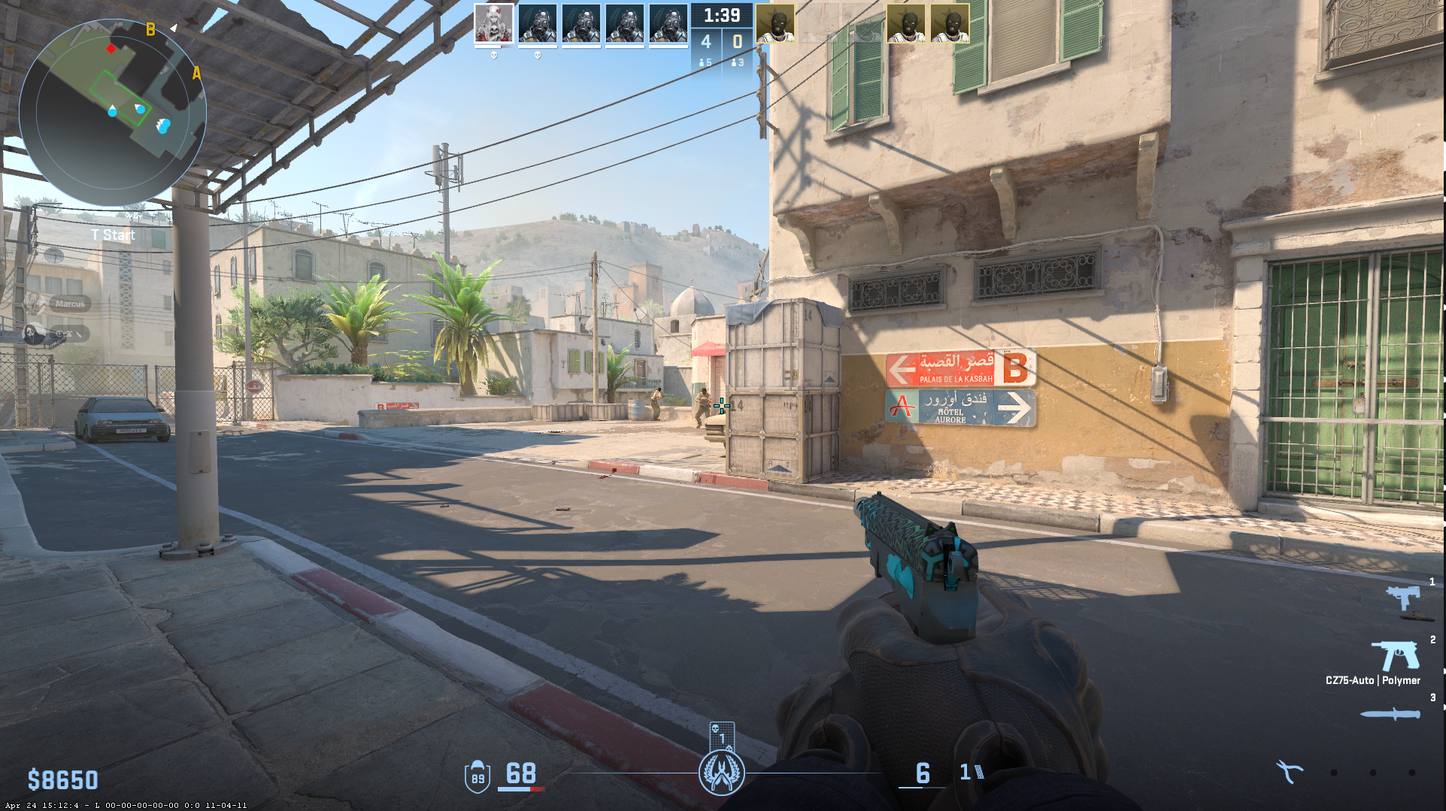T: (695, 388, 712, 428), (650, 387, 661, 420)
